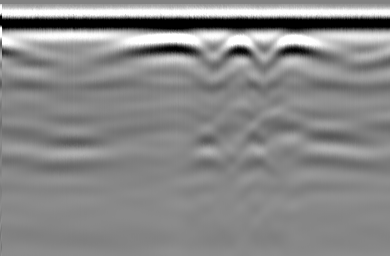steel: (111, 32, 206, 63), (267, 33, 336, 61), (213, 32, 263, 65)
